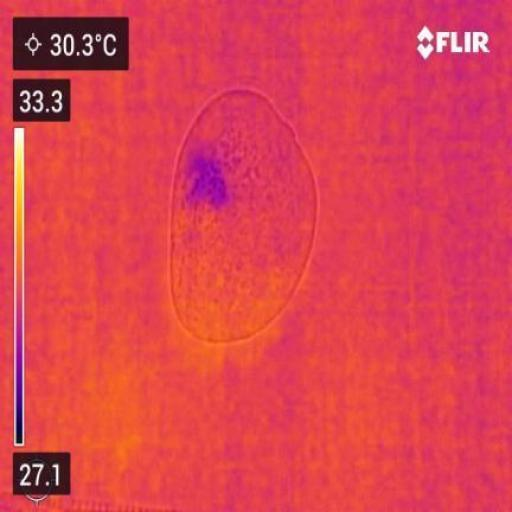alphanso: (171, 89, 316, 341)
